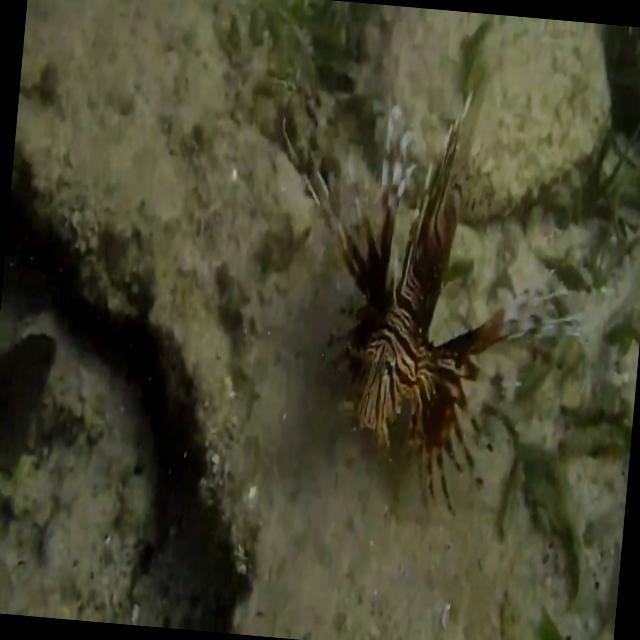Aslan Baligi: (247, 72, 617, 523)
